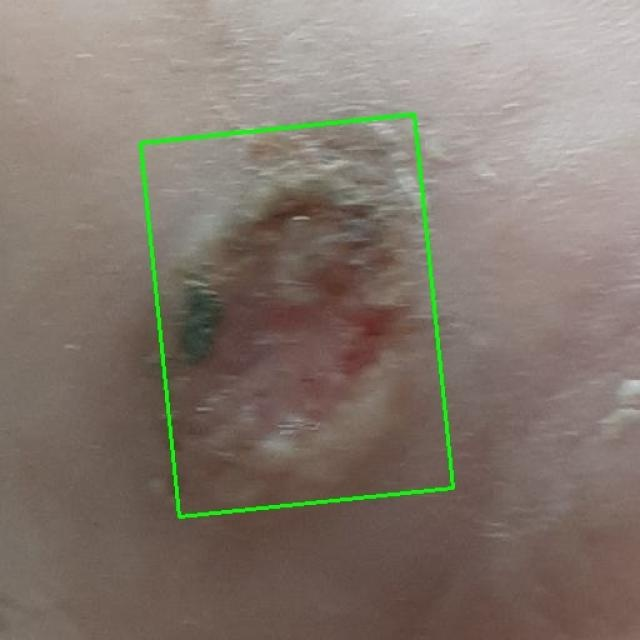Eczema: (140, 114, 453, 517)
